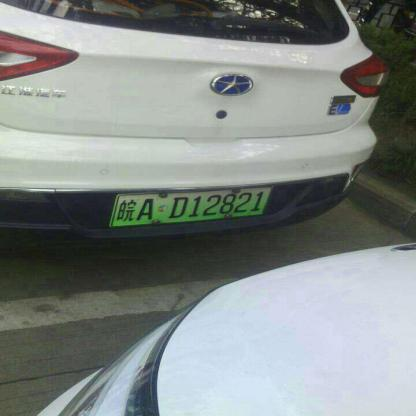lp: (111, 186, 269, 226)
